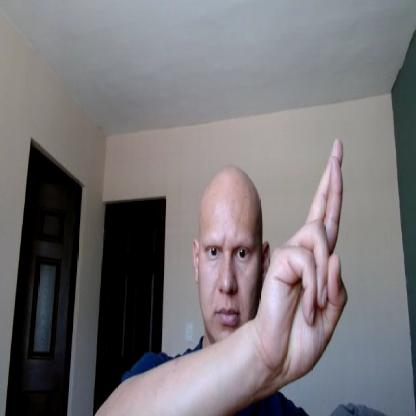R: (258, 136, 349, 379)
